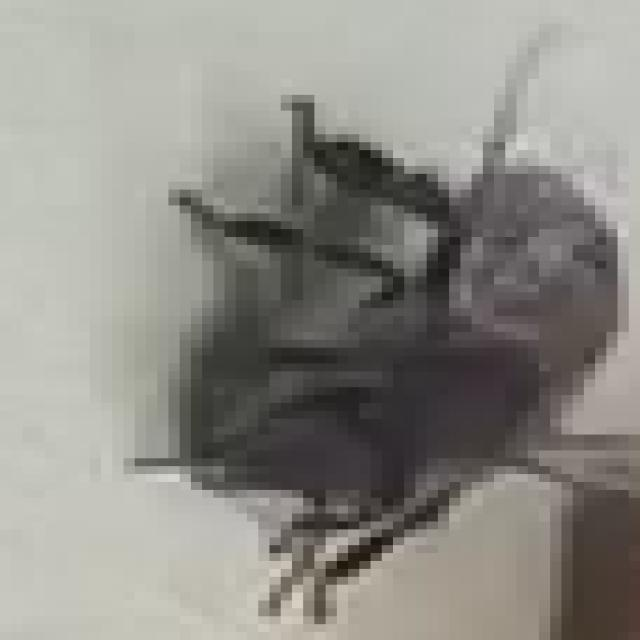honeybee: (152, 104, 612, 582)
